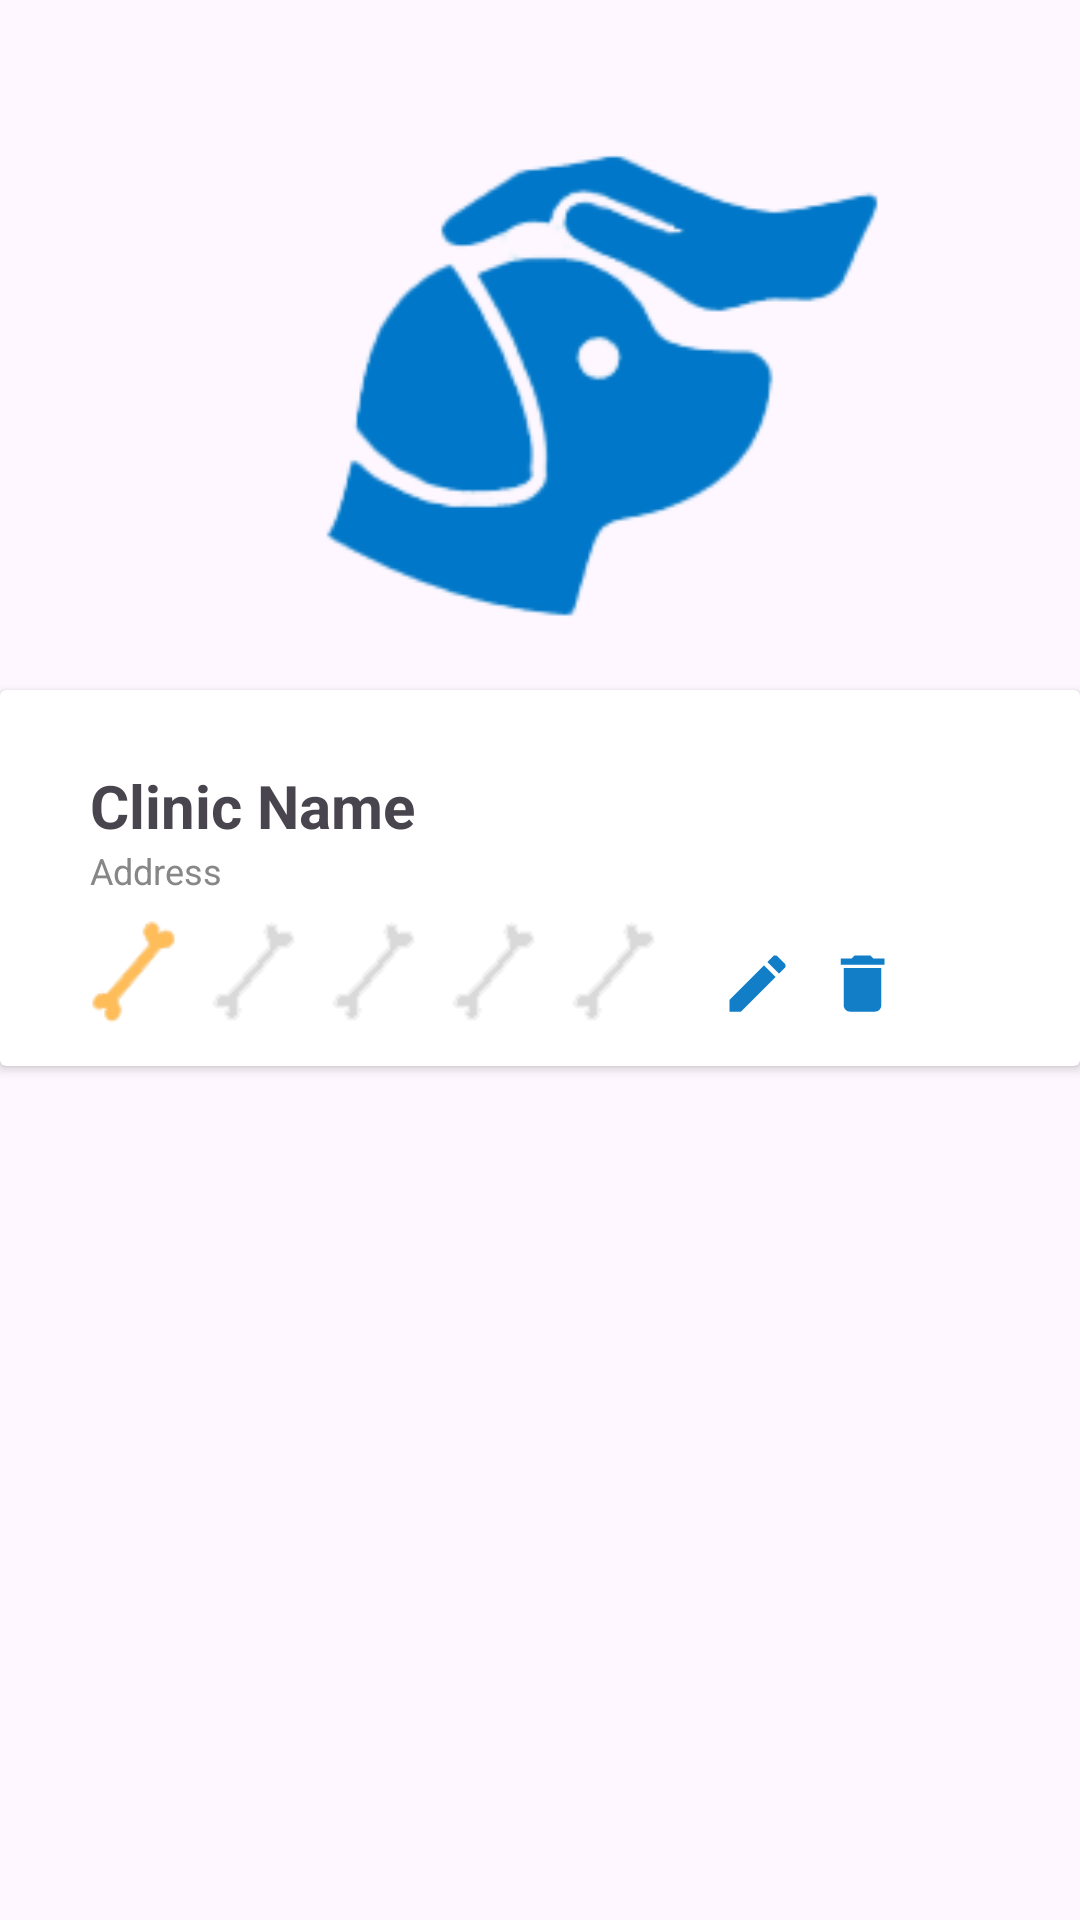

Where to tap for icons on this 1080px x 1920px app screen, as [x,y]:
delete: [862,983]
edit: [757,983]
